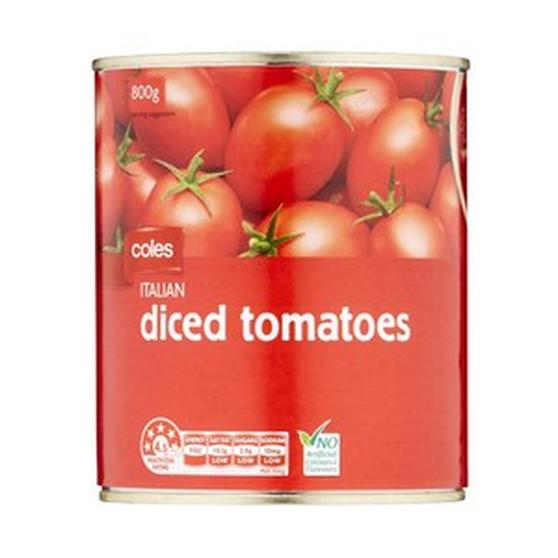tomato: (225, 73, 355, 207)
